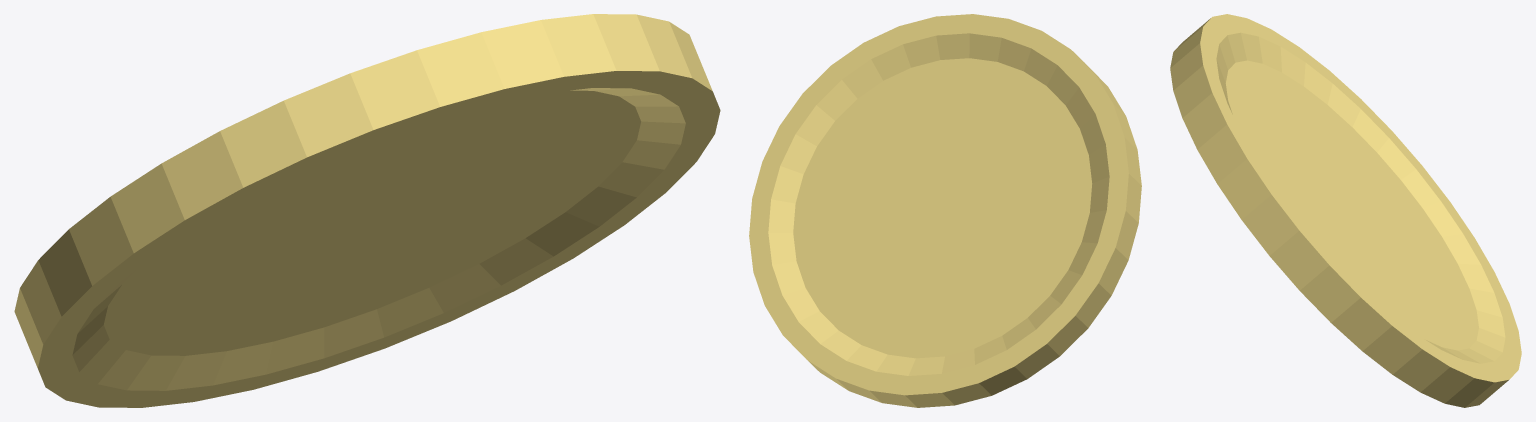
The model's file is Coin_deneme.fbx.
3 views of the same model, side by side, from view 1: azimuth 30°, elevation 25°; view 2: azimuth 150°, elevation 25°; view 3: azimuth 270°, elevation 25° (orthographic). The views are drawn at different scales.
Parts seen in each view (by area): view 1: Coin.003; view 2: Coin.003; view 3: Coin.003.
Boxes of the visible parts, x1=… form: Coin.003: x1=14, y1=14, x2=720, y2=407; Coin.003: x1=749, y1=14, x2=1141, y2=407; Coin.003: x1=1170, y1=14, x2=1521, y2=407.
Bounding box in the file's own units: 0.2 × 0.1578 × 0.1497.
